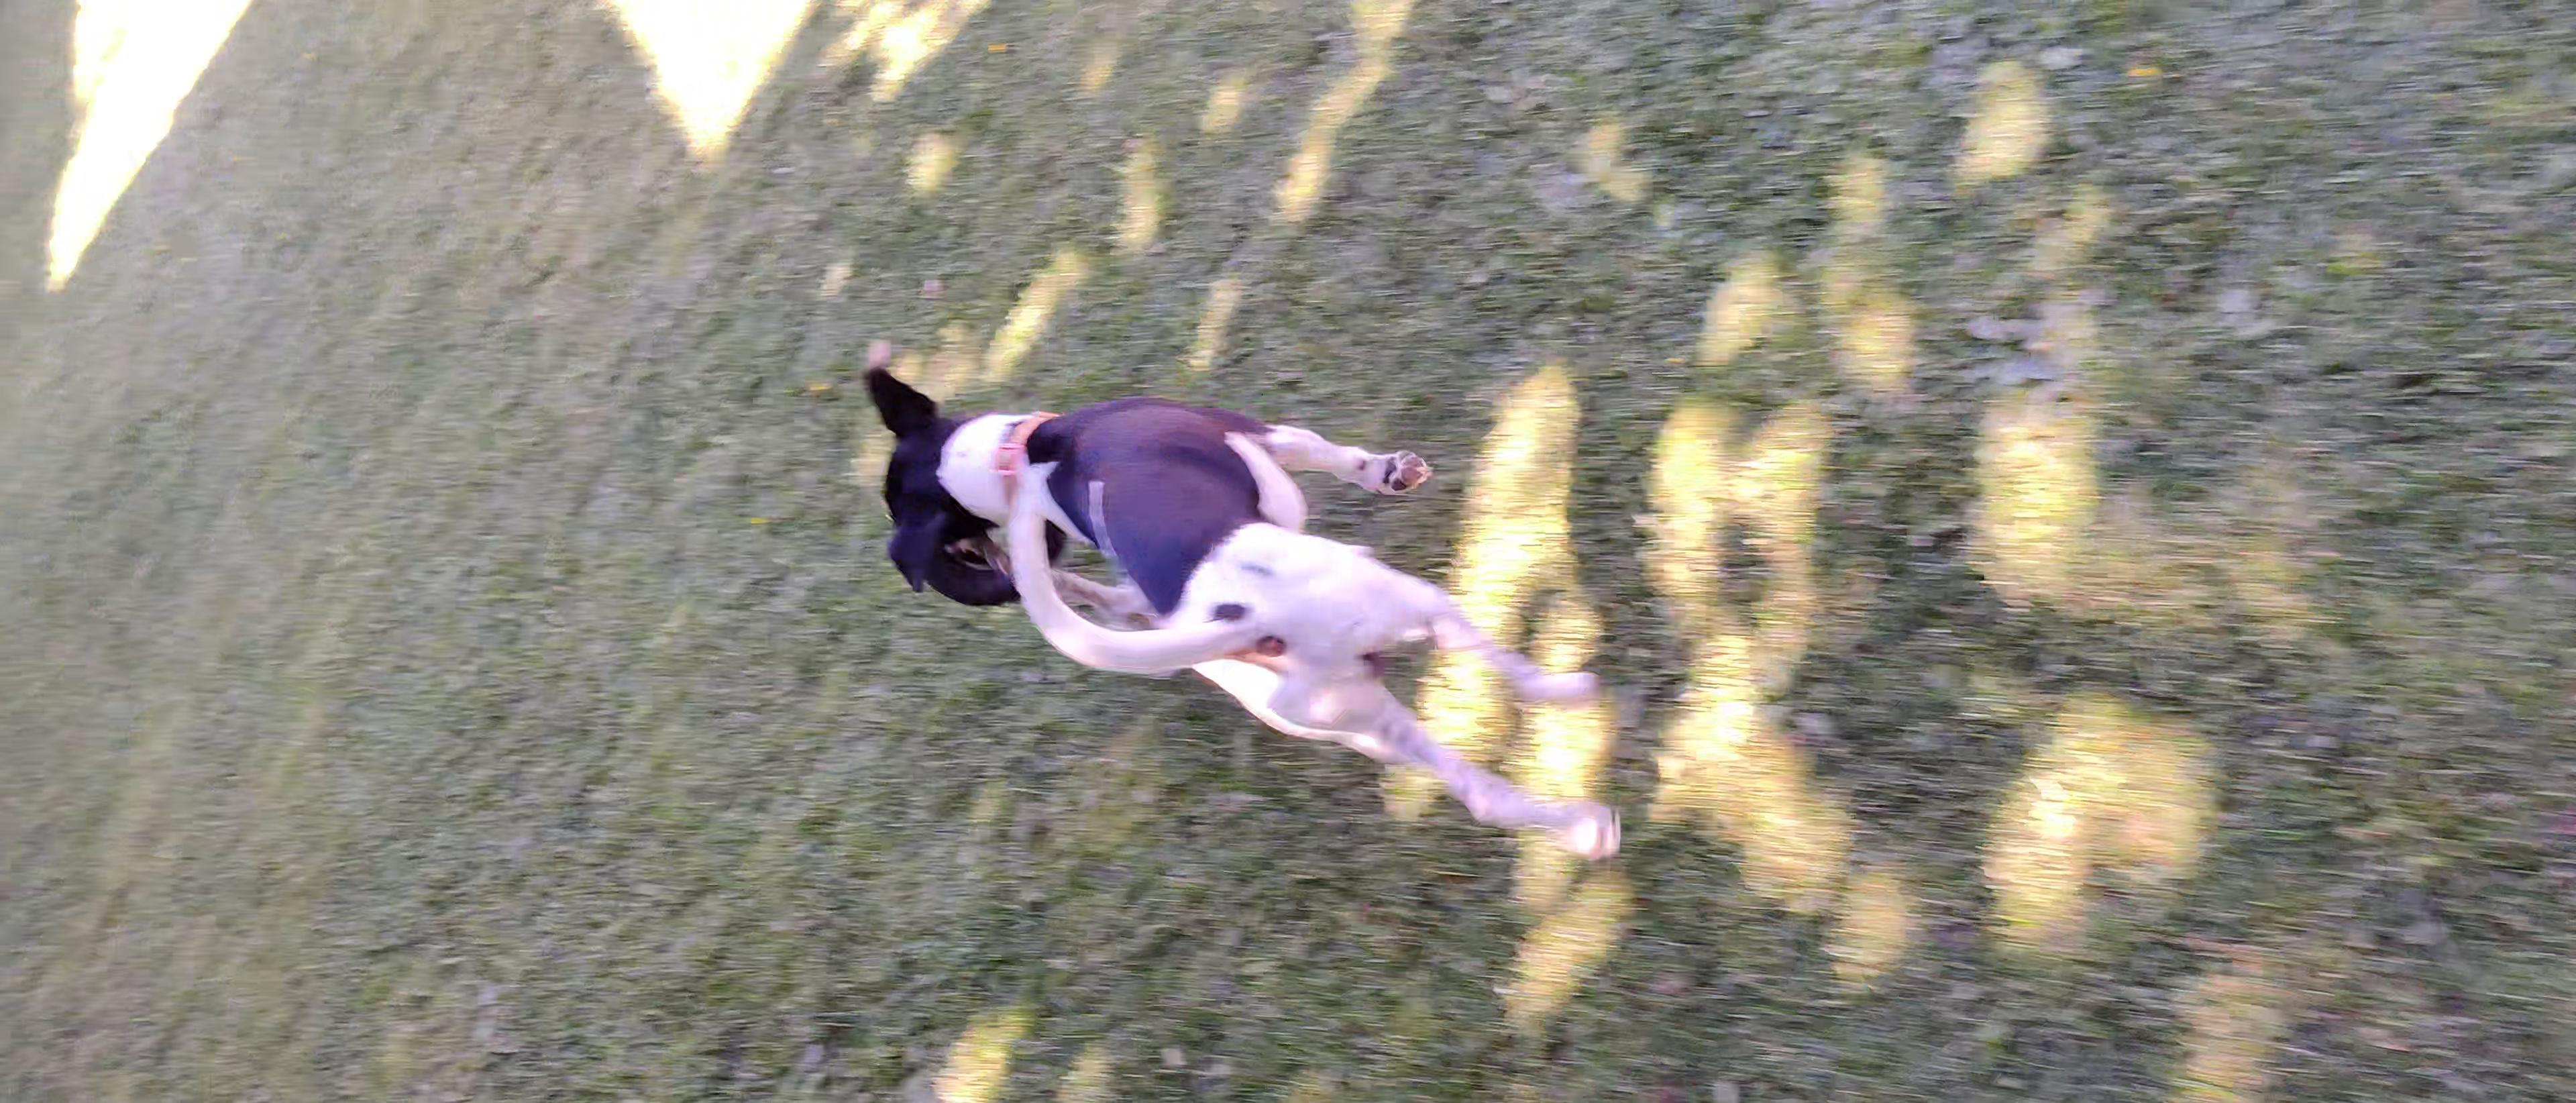Dog: (833, 335, 1636, 870)
